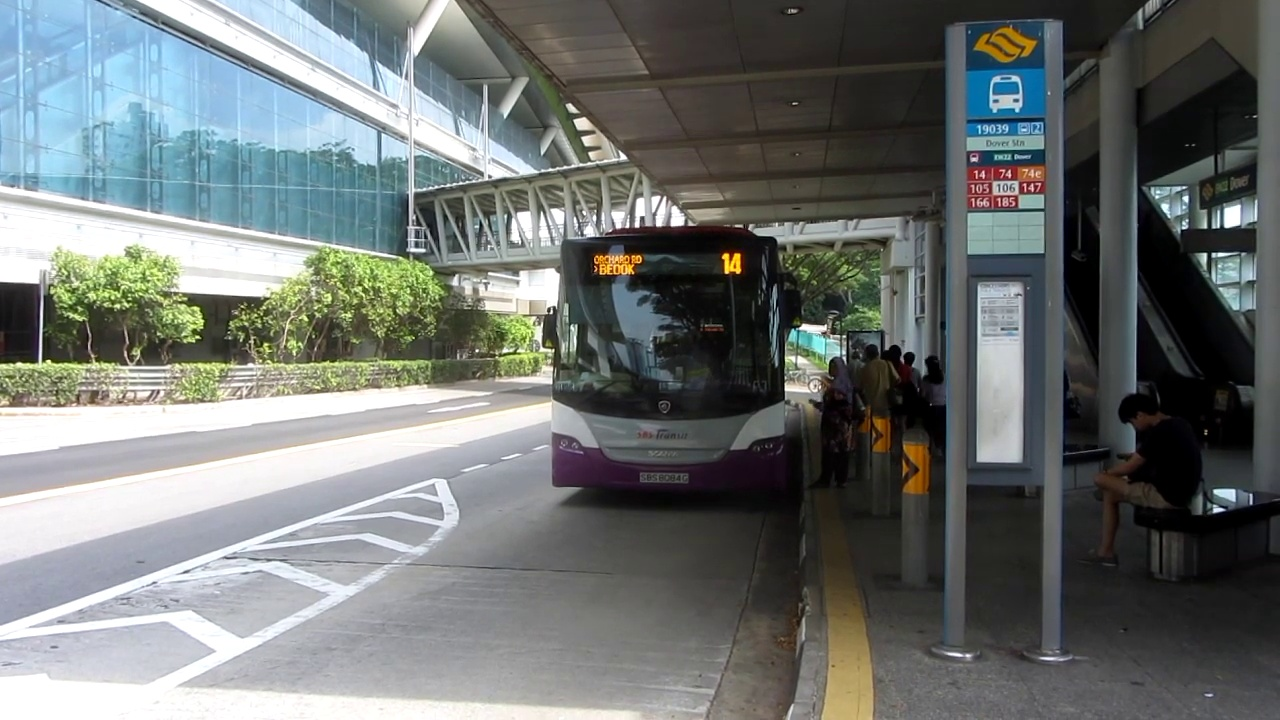bus panel: (588, 250, 748, 279)
